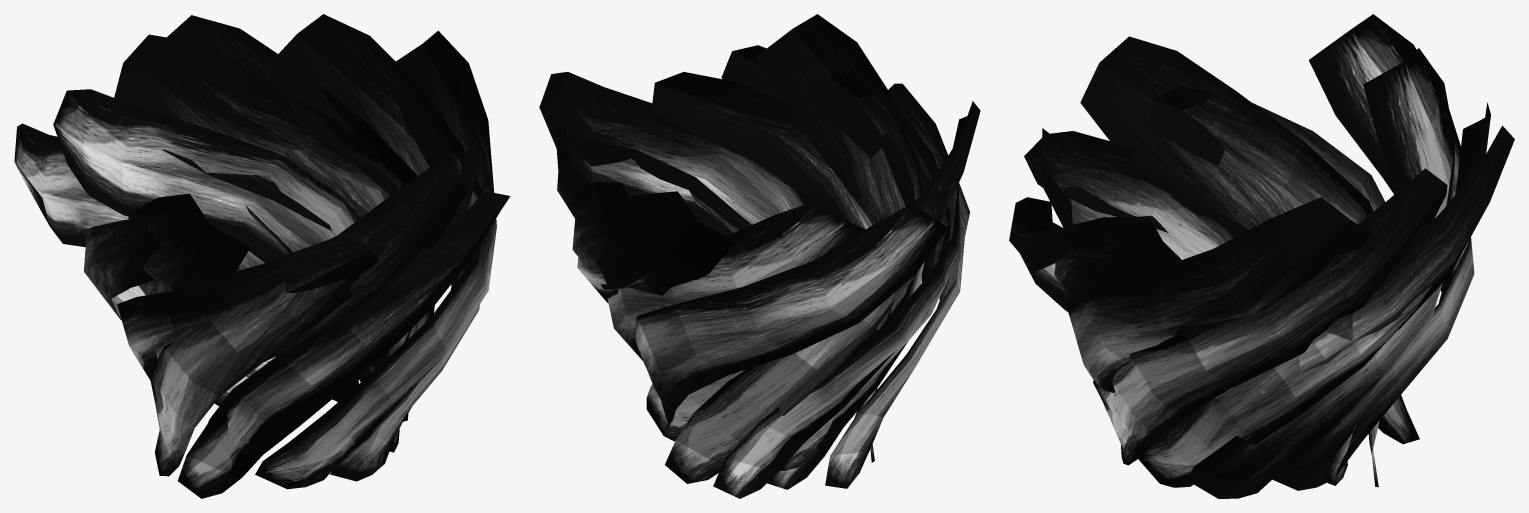
The model's file is BossStorm.fbx.
3 renders of one model, left to right at view 1: azimuth 30°, elevation 25°; view 2: azimuth 150°, elevation 25°; view 3: azimuth 270°, elevation 25°, orthographic. The views are drawn at different scales.
Parts seen in each view (by area): view 1: BossStormGeo; view 2: BossStormGeo; view 3: BossStormGeo.
Boxes of the visible parts, x1,y1,x2,y2 form: BossStormGeo: (14,14,510,498); BossStormGeo: (539,14,980,498); BossStormGeo: (1009,14,1514,498).
Bounding box in the file's own units: 1.42 × 1.19 × 1.44.
